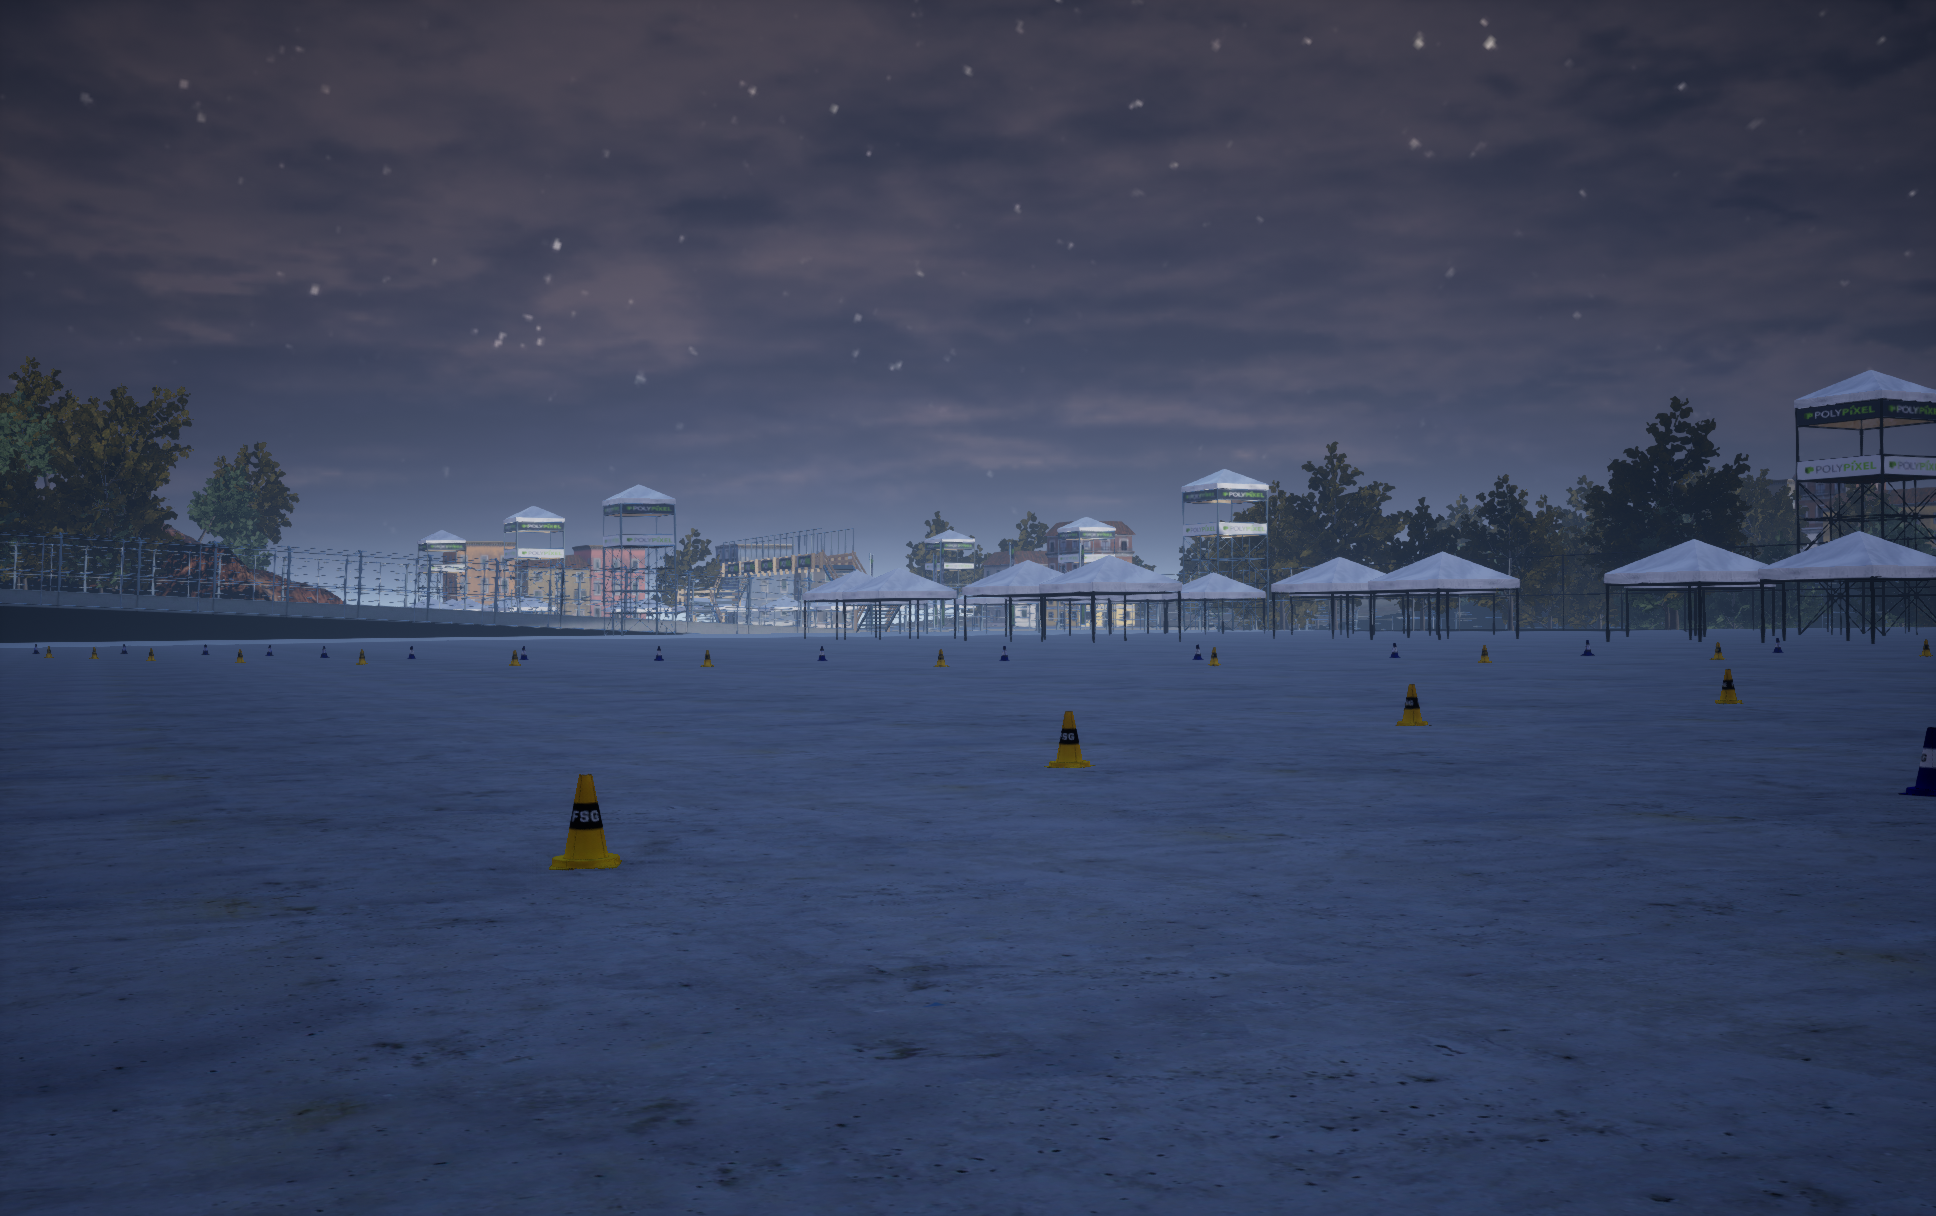blue: (549, 773, 621, 869), (1044, 712, 1095, 766), (1395, 684, 1432, 726), (1715, 670, 1743, 703), (1208, 647, 1220, 665)
yellow: (1898, 727, 1935, 796)
